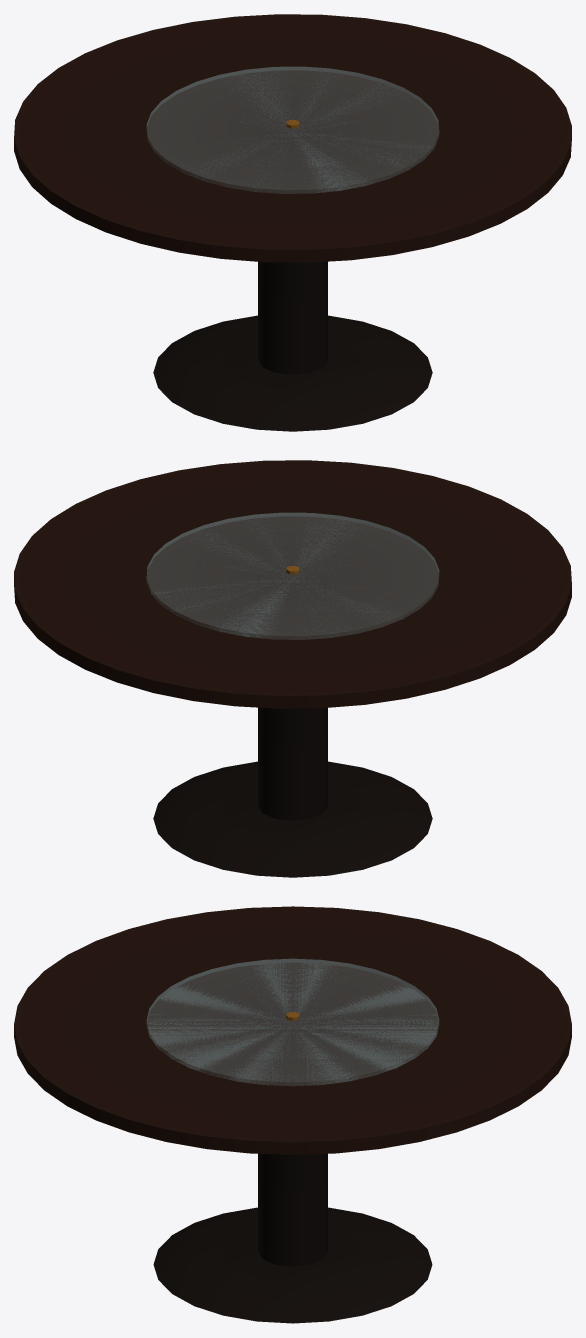
Rendered from fs-dining-table-round.glb.
3 renders of one model, top to bottom at view 1: azimuth 30°, elevation 25°; view 2: azimuth 150°, elevation 25°; view 3: azimuth 270°, elevation 25°, orthographic.
Parts seen in each view (by area): view 1: table__wood, glass-plate__glass; view 2: table__wood, glass-plate__glass; view 3: table__wood, glass-plate__glass.
Boxes of the visible parts, x1=… form: table__wood: x1=14, y1=14, x2=571, y2=431; glass-plate__glass: x1=146, y1=66, x2=439, y2=193; table__wood: x1=14, y1=460, x2=571, y2=877; glass-plate__glass: x1=146, y1=512, x2=439, y2=639; table__wood: x1=14, y1=906, x2=571, y2=1323; glass-plate__glass: x1=146, y1=958, x2=439, y2=1085.
Size of the model in its own units: 1.6 by 0.79 by 1.6.
